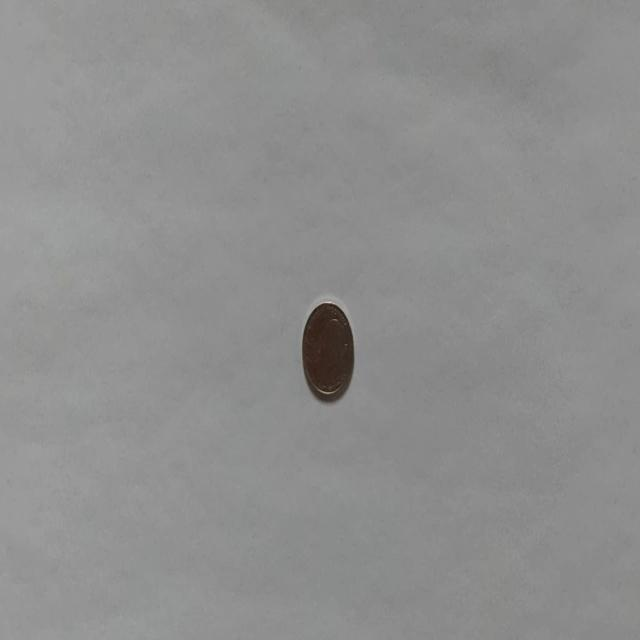seribu rupiah koin: (300, 297, 354, 403)
